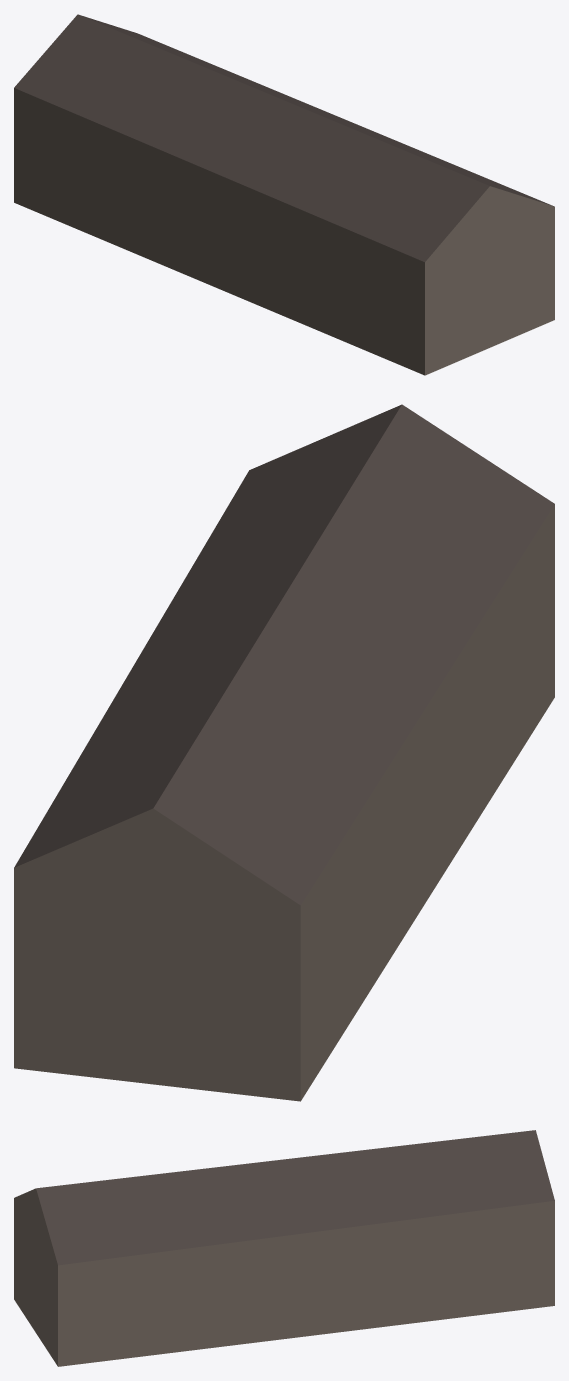
The picture shows the model from 3 angles, top to bottom: view 1: azimuth 30°, elevation 25°; view 2: azimuth 150°, elevation 25°; view 3: azimuth 270°, elevation 25°; orthographic projection. The views are drawn at different scales.
Parts seen in each view (by area): view 1: HP-w414733168; view 2: HP-w414733168; view 3: HP-w414733168.
Part boxes in pixels (x1,y1,x2,y2): HP-w414733168: [14, 14, 554, 375]; HP-w414733168: [14, 404, 554, 1101]; HP-w414733168: [14, 1130, 554, 1366].
Size of the model in its own units: 15.83 by 8.57 by 28.99.
